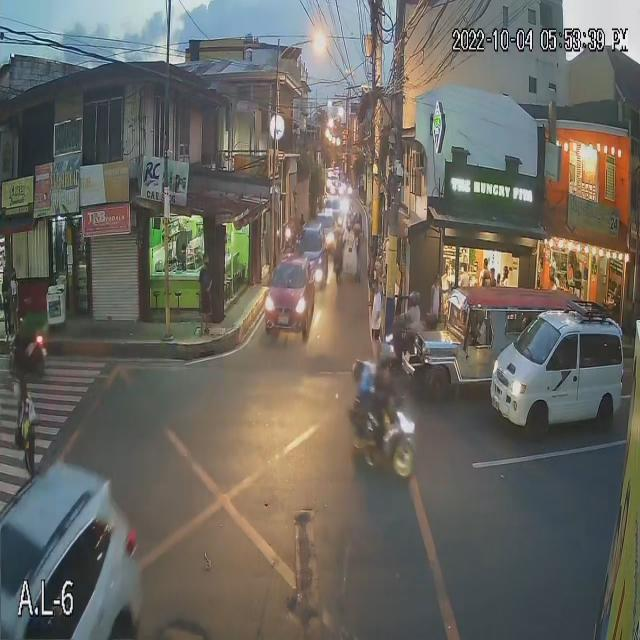helmet: (408, 291, 422, 305)
motorcycle: (347, 393, 418, 478), (9, 331, 49, 376)
rider: (363, 381, 397, 466), (401, 304, 420, 353), (18, 322, 32, 367)
